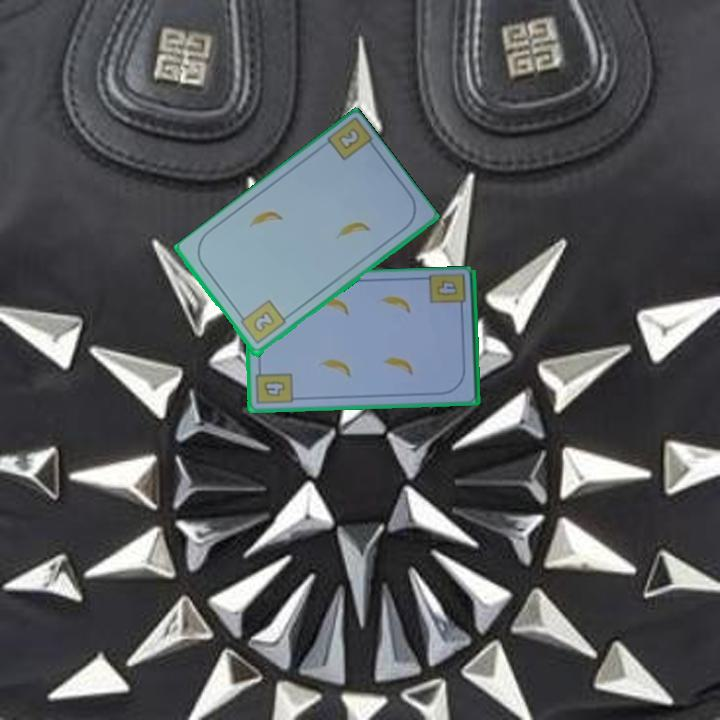2b: (235, 297, 289, 347), (334, 125, 363, 153)
4b: (253, 364, 295, 408), (433, 277, 460, 299)
